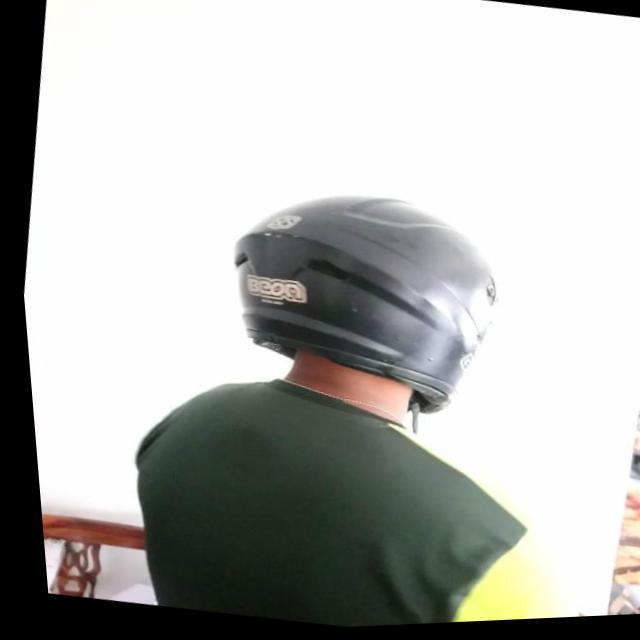helmet: (196, 172, 516, 457)
